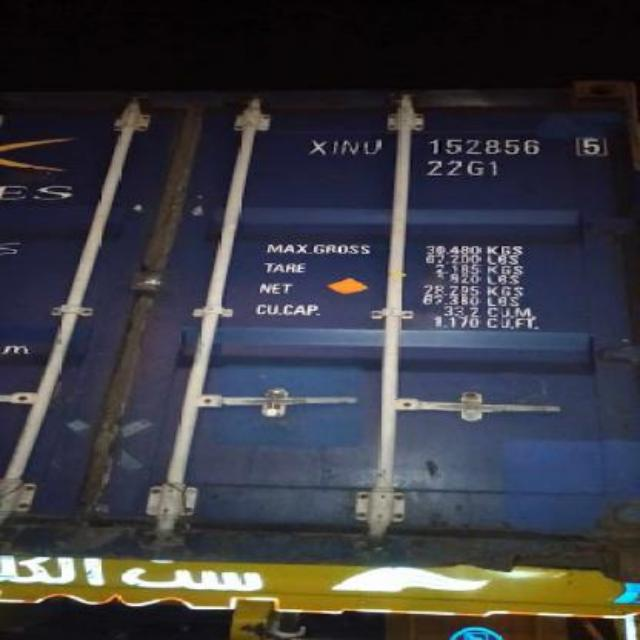1: (428, 137, 440, 157)
2: (462, 137, 482, 155)
5: (502, 136, 520, 156), (582, 137, 602, 155), (446, 136, 462, 156)
6: (524, 139, 540, 155)
8: (484, 139, 500, 155)
I: (330, 137, 342, 157)
N: (344, 137, 360, 155)
U: (362, 137, 380, 157)
X: (308, 137, 330, 157)
